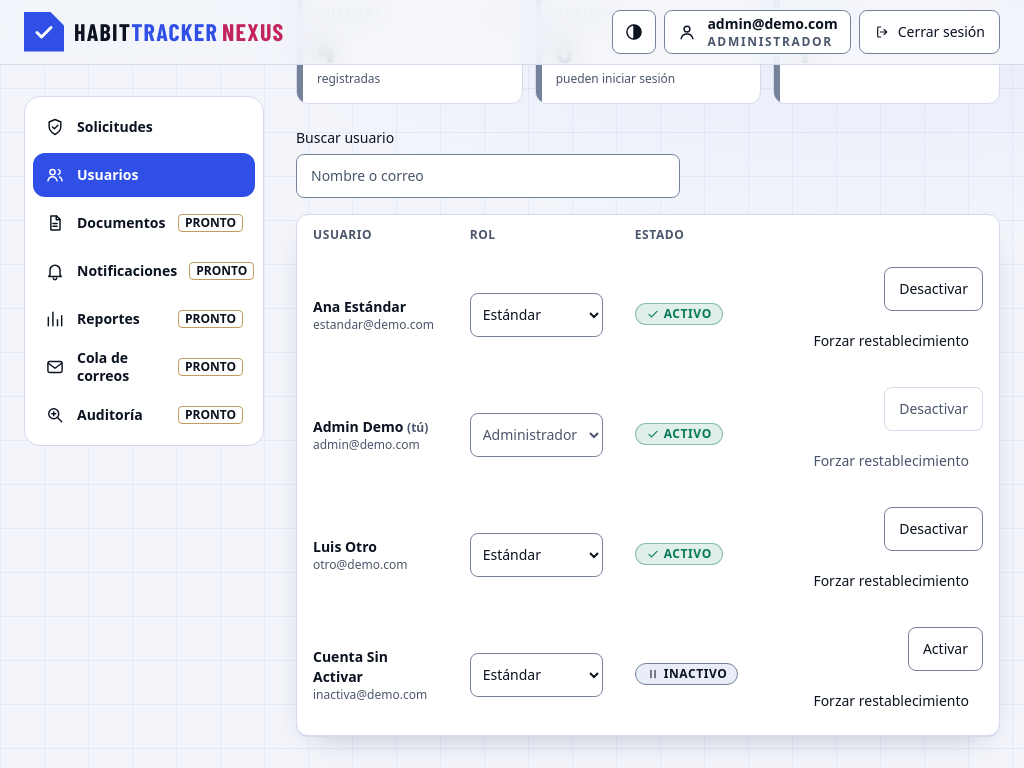
administración de usuarios › fuerza el restablecimiento tras confirmar
The image size is (1024, 768).
(page scrolled)
Click the button with aria-label "Forzar restablecimiento de".
click(891, 581)  # box [799,559,983,603]
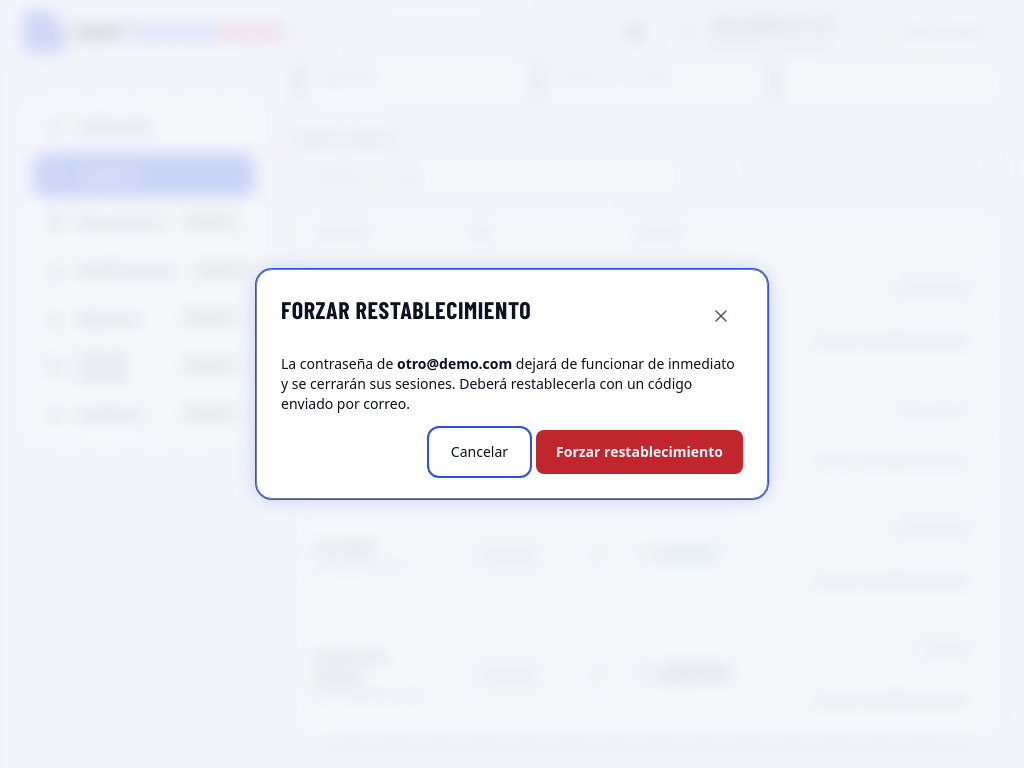
Click the button "Forzar restablecimiento".
click(640, 452)  # box [536,430,743,474]
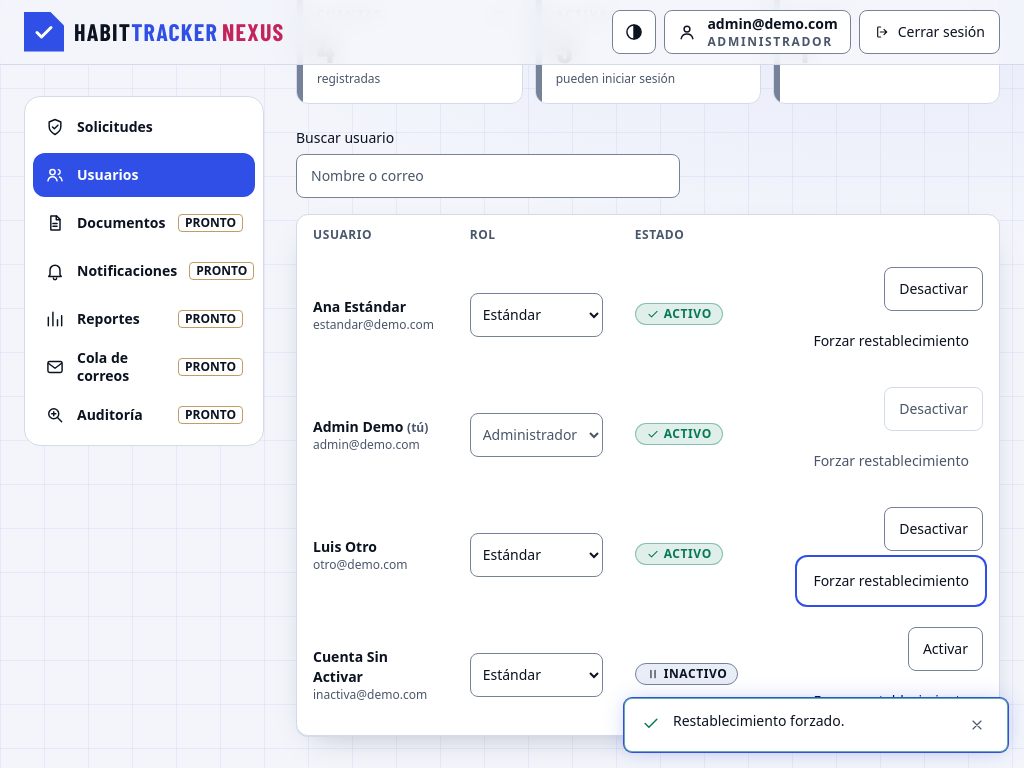
Expected: the text "Restablecimiento forzado." is shown, [673,711,844,730]
